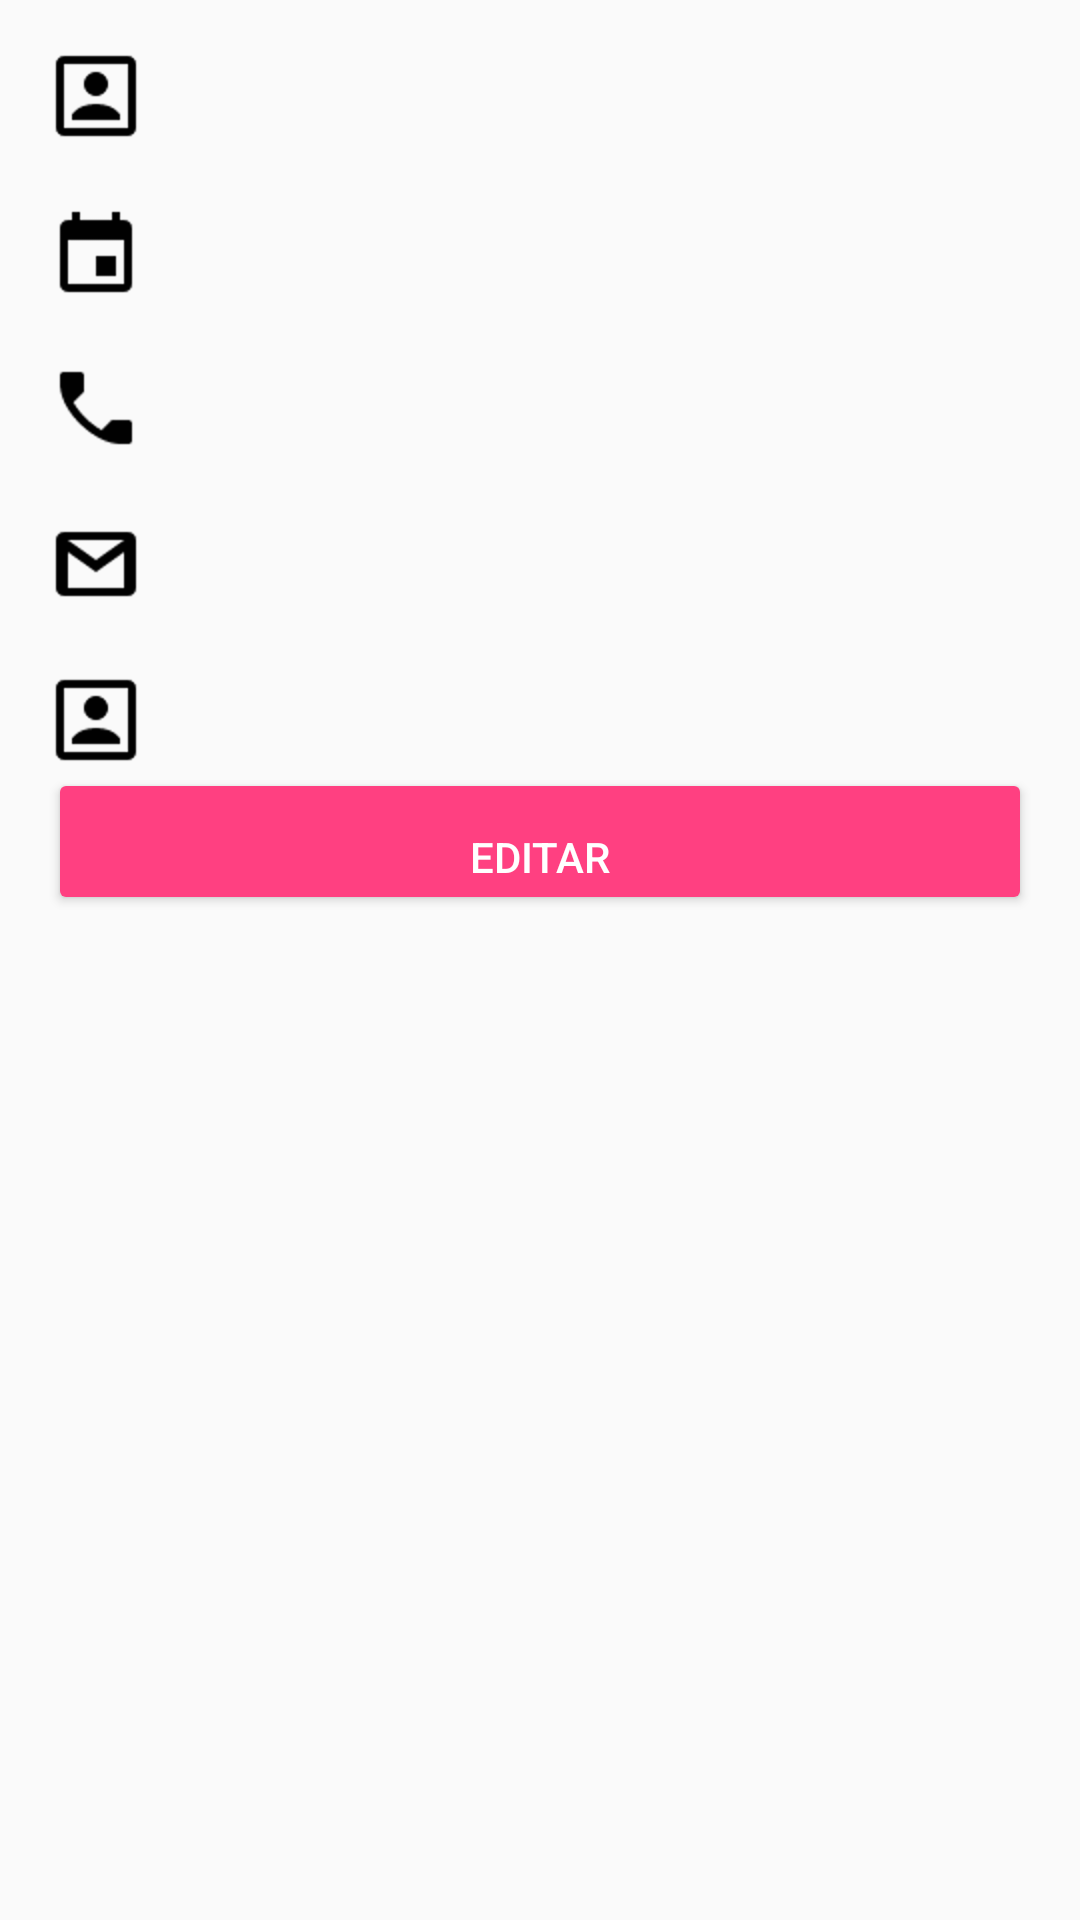

Where icons sit on this 1080 × 1920 app screen, as (x1=x1, y1=y1, x2=x2, y2=y2):
calendario: (x1=59, y1=211, x2=133, y2=293)
gmail: (x1=55, y1=531, x2=137, y2=597)
nombre: (x1=55, y1=55, x2=137, y2=137), (x1=55, y1=679, x2=137, y2=761)
tel fono: (x1=59, y1=371, x2=133, y2=445)
